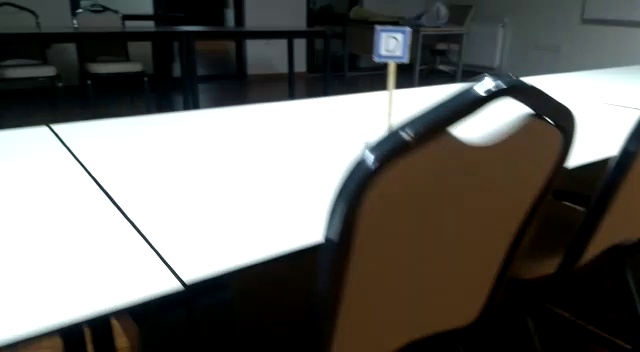durak: (373, 26, 414, 61)
